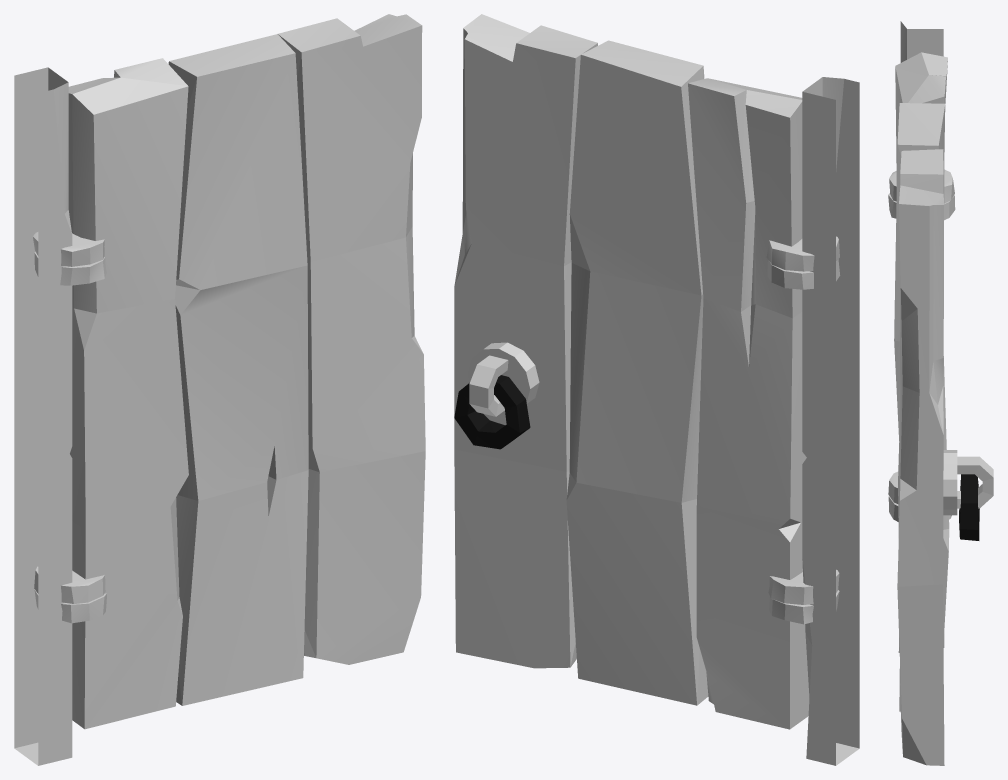
The model's file is NGF_Env_Door_attachment_02.fbx.
3 renders of one model, left to right at view 1: azimuth 30°, elevation 25°; view 2: azimuth 150°, elevation 25°; view 3: azimuth 270°, elevation 25°, orthographic. The views are drawn at different scales.
Parts seen in each view (by area): view 1: NGF_Env_Door_05, NGF_Env_Door_attachment_02, NGF_Env_Hinges_12, NGF_Env_Hinges_08; view 2: NGF_Env_Door_05, NGF_Env_Door_attachment_02, NGF_Env_Handle_attachment_05, NGF_Env_Handle_05, NGF_Env_Hinges_12, NGF_Env_Hinges_08; view 3: NGF_Env_Door_05, NGF_Env_Handle_attachment_05, NGF_Env_Handle_05, NGF_Env_Door_attachment_02, NGF_Env_Hinges_12, NGF_Env_Hinges_08.
Boxes of the visible parts, x1,y1,x2,y2 form: NGF_Env_Door_05: (68,14,425,729); NGF_Env_Door_attachment_02: (14,67,72,765); NGF_Env_Hinges_12: (33,232,105,603); NGF_Env_Hinges_08: (34,251,106,623); NGF_Env_Door_05: (454,14,809,729); NGF_Env_Door_attachment_02: (802,77,859,765); NGF_Env_Handle_attachment_05: (467,342,539,416); NGF_Env_Handle_05: (454,375,530,449); NGF_Env_Hinges_12: (766,236,839,604); NGF_Env_Hinges_08: (767,259,840,624); NGF_Env_Door_05: (894,52,949,765); NGF_Env_Handle_attachment_05: (943,450,993,515); NGF_Env_Handle_05: (959,474,979,540); NGF_Env_Door_attachment_02: (900,21,943,62); NGF_Env_Hinges_12: (888,169,954,503); NGF_Env_Hinges_08: (888,193,955,521).
Size of the model in its own units: 1.58 by 2.64 by 0.4188.
1 material, 1 textured.
